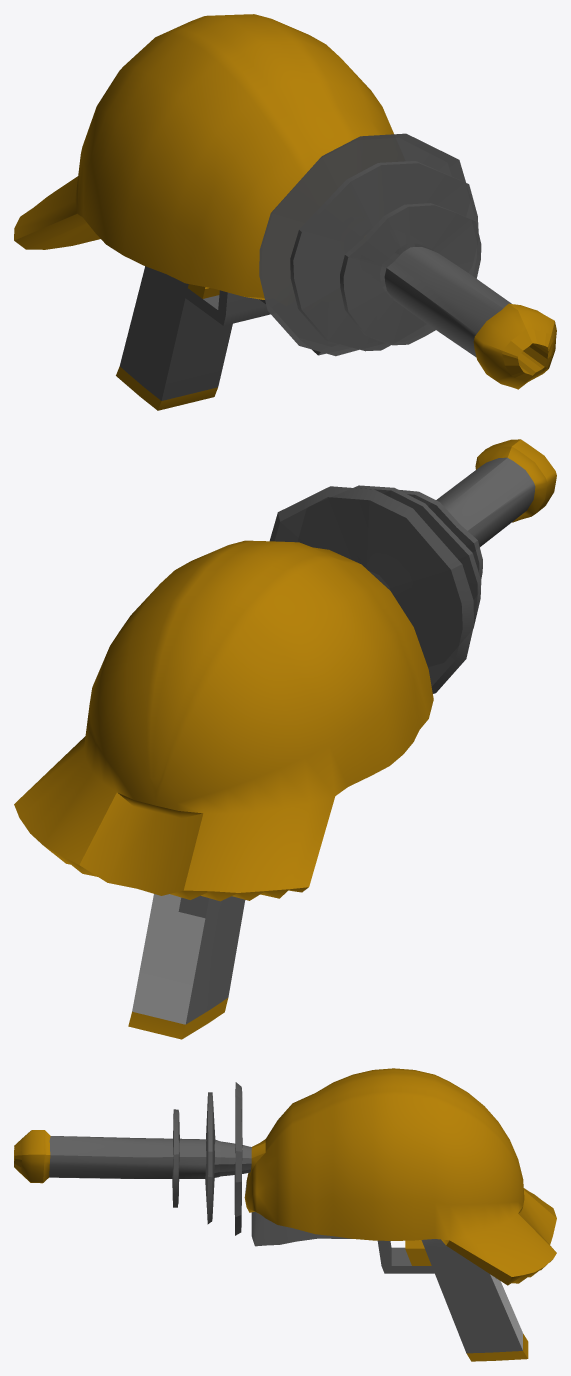
The model's file is Booska_Gun.fbx.
3 views of the same model, one above another, from view 1: azimuth 30°, elevation 25°; view 2: azimuth 150°, elevation 25°; view 3: azimuth 270°, elevation 25° (orthographic). The views are drawn at different scales.
Visible parts, largest first — view 1: pSphere1; view 2: pSphere1; view 3: pSphere1.
Boxes of the visible parts, x1,y1,x2,y2 form: pSphere1: (14,14,556,410); pSphere1: (14,439,556,1039); pSphere1: (14,1068,556,1361).
Bounding box in the file's own units: 1.52 × 2.02 × 3.6.
